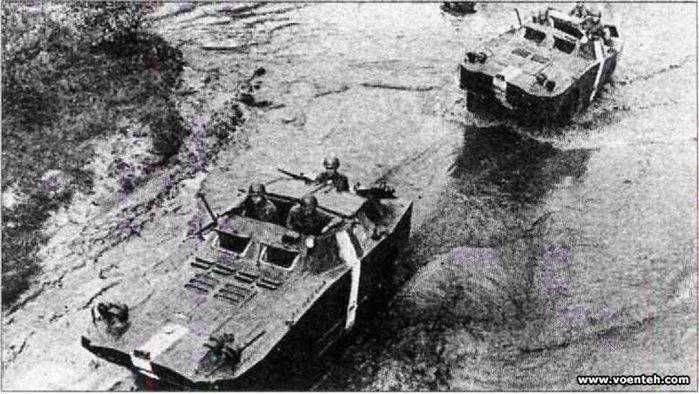MIL_IFV: (78, 155, 421, 392), (457, 1, 620, 130)
